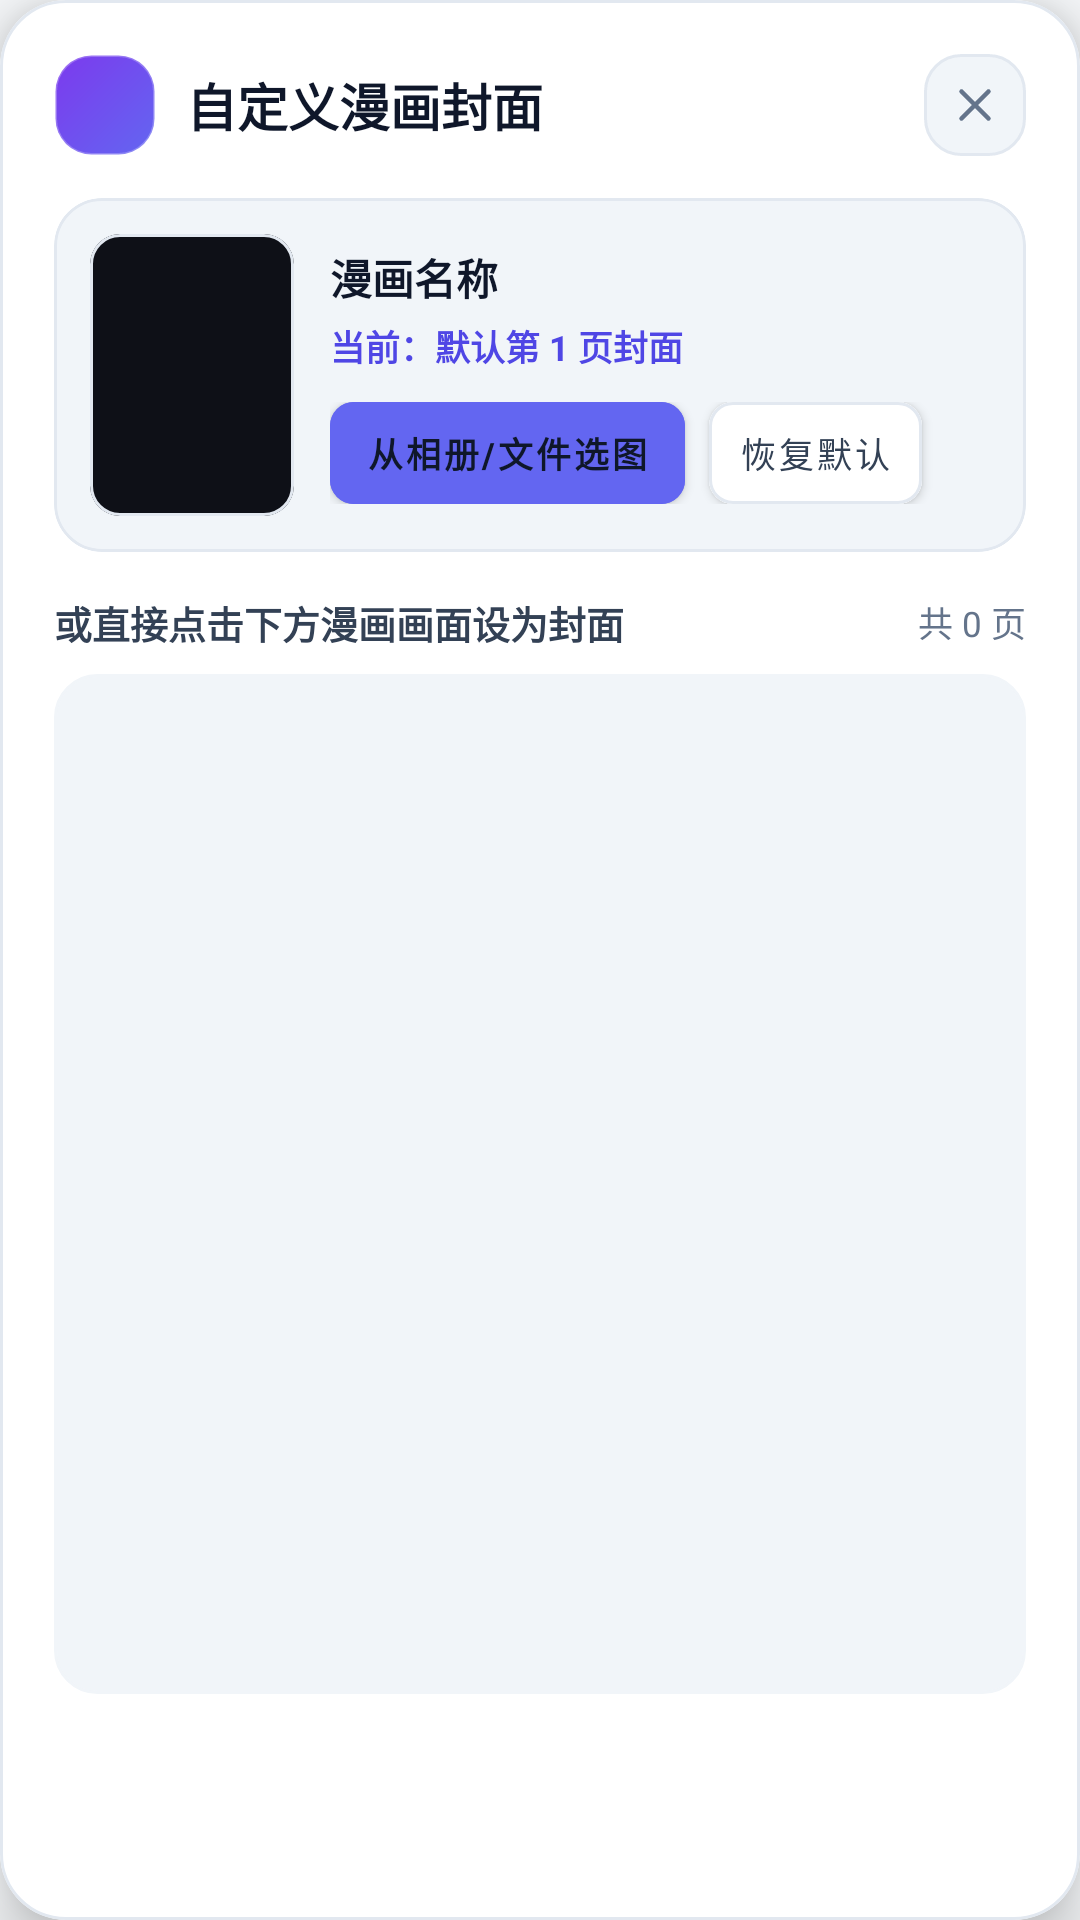

Icons on this 1080w x 1920h Android screen, each with its box as (x1, y1, x2, y2):
close: (924, 54, 1026, 156)
